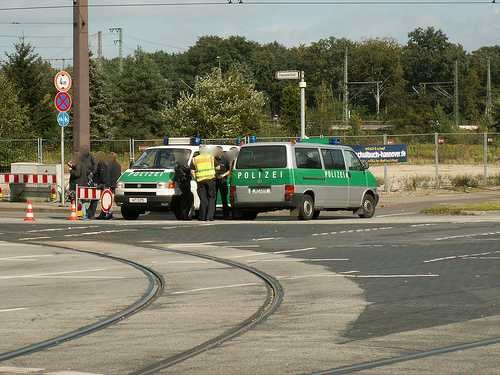Police Car: (229, 124, 395, 238), (112, 132, 222, 212)
